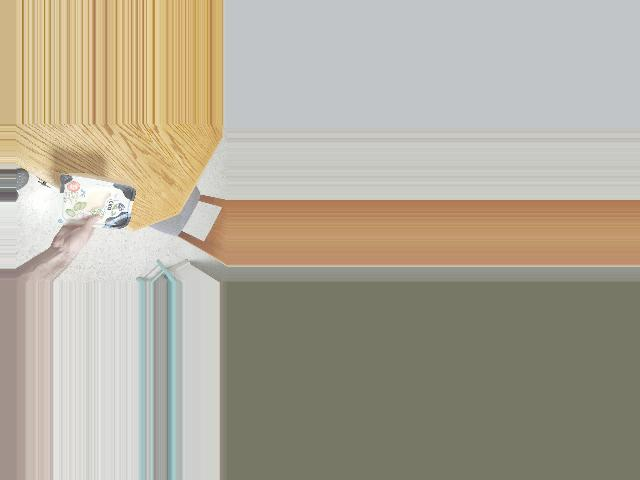cheese: (68, 176, 130, 238)
